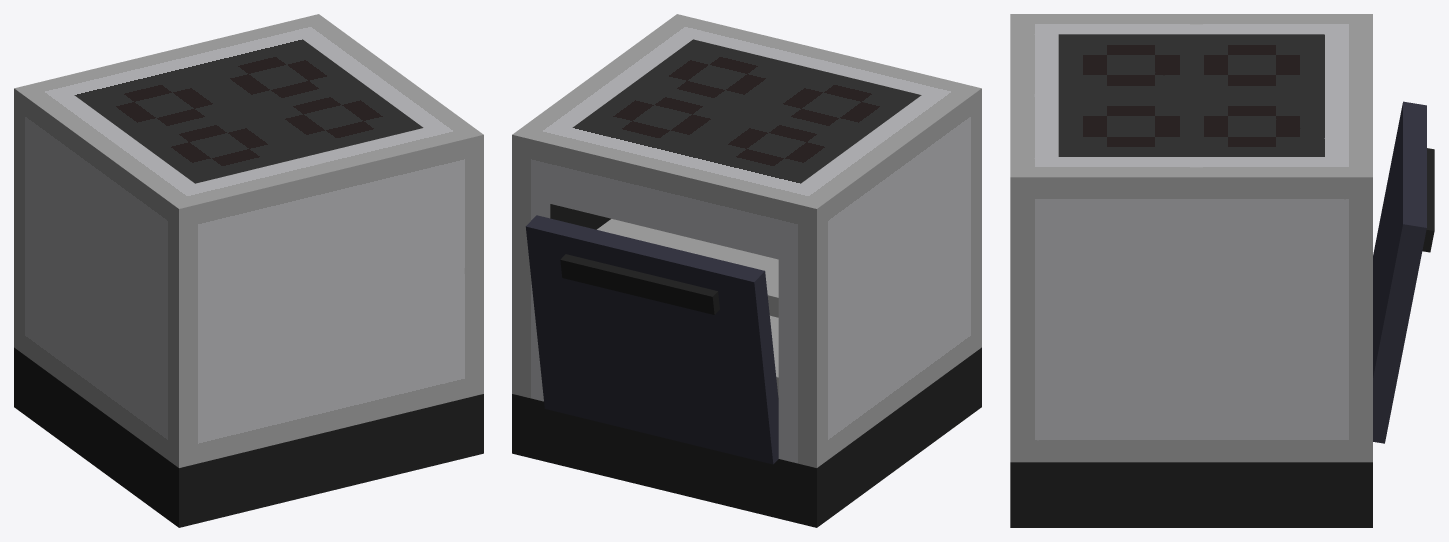
Rendered from Oven.gltf.
3 renders of one model, left to right at view 1: azimuth 30°, elevation 25°; view 2: azimuth 150°, elevation 25°; view 3: azimuth 270°, elevation 25°, orthographic. The views are drawn at different scales.
Parts seen in each view (by area): view 1: cube (×5); view 2: cube (×8); view 3: cube (×7).
Part boxes in pixels (<box>): cube (×5): <box>14,14,483,527</box>; cube (×8): <box>512,14,981,527</box>; cube (×7): <box>1010,14,1434,527</box>.
Size of the model in its own units: 1 by 1 by 1.1.
2 materials, 1 textured.
